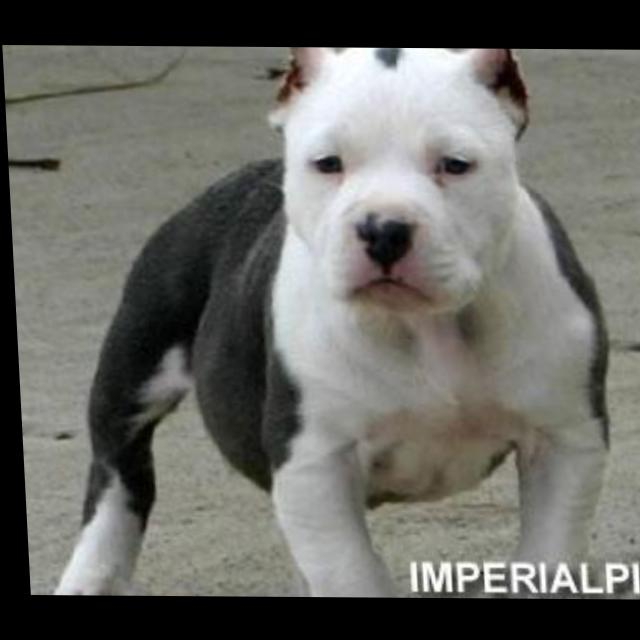amstaff: (7, 46, 619, 599)
